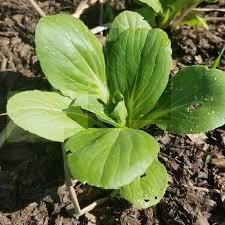Healthy-Pechay: (29, 14, 218, 198)
